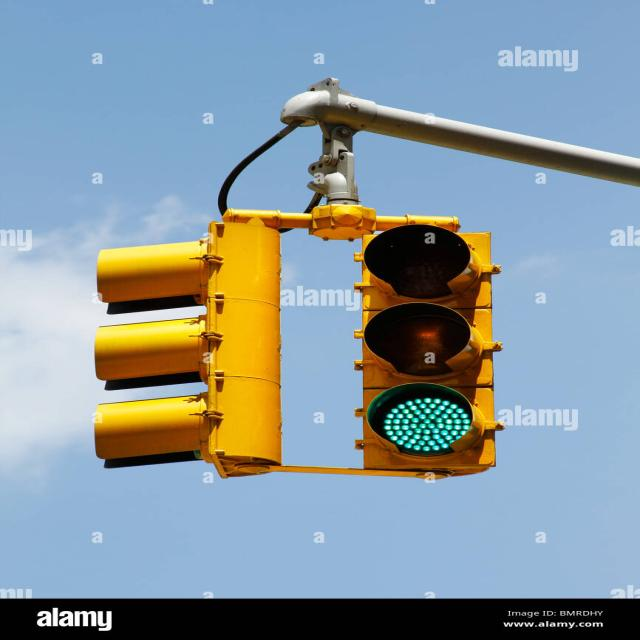green: (372, 395, 476, 452)
